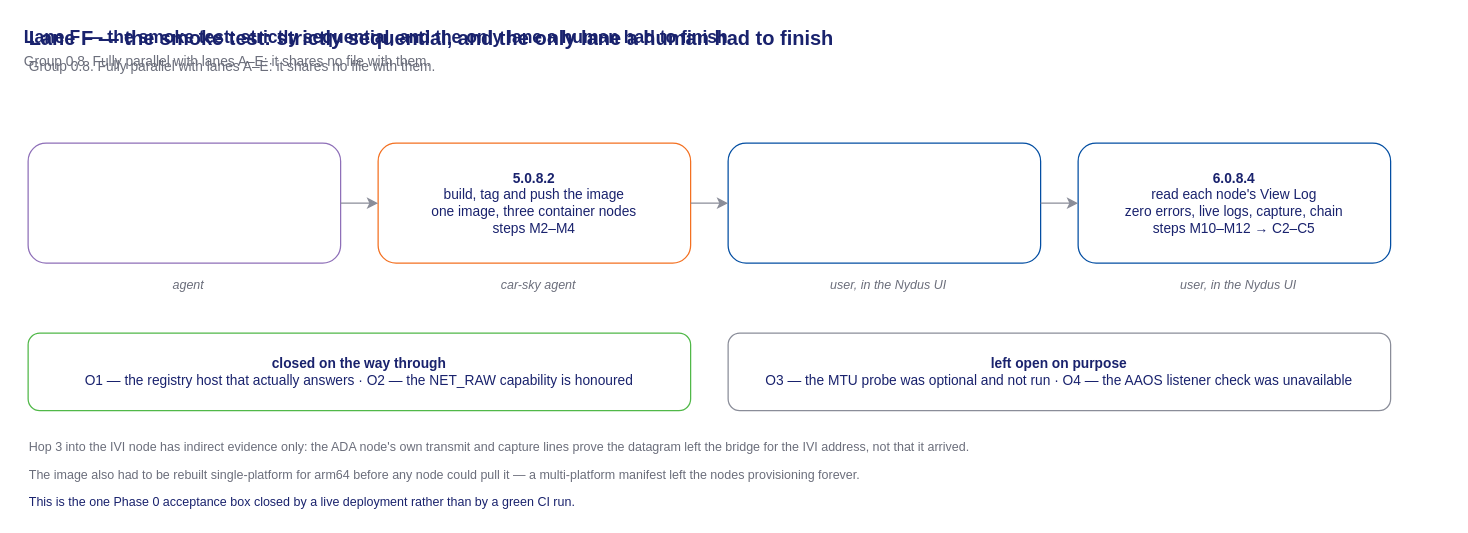
Some shapes in this 1468 by 533 pixel diagram are drawn without their labels. The shapes that lost their labels are listed below. From the top down, each one's centre as x and y in pixels, then its label:
(184,202): 6.0.8.1 author the netcheck tool 4 files, verbatim from the note step M1
(884,202): 5.0.8.3 node config + deploy every node Running, restarts 0 steps M5–M9 → C1
